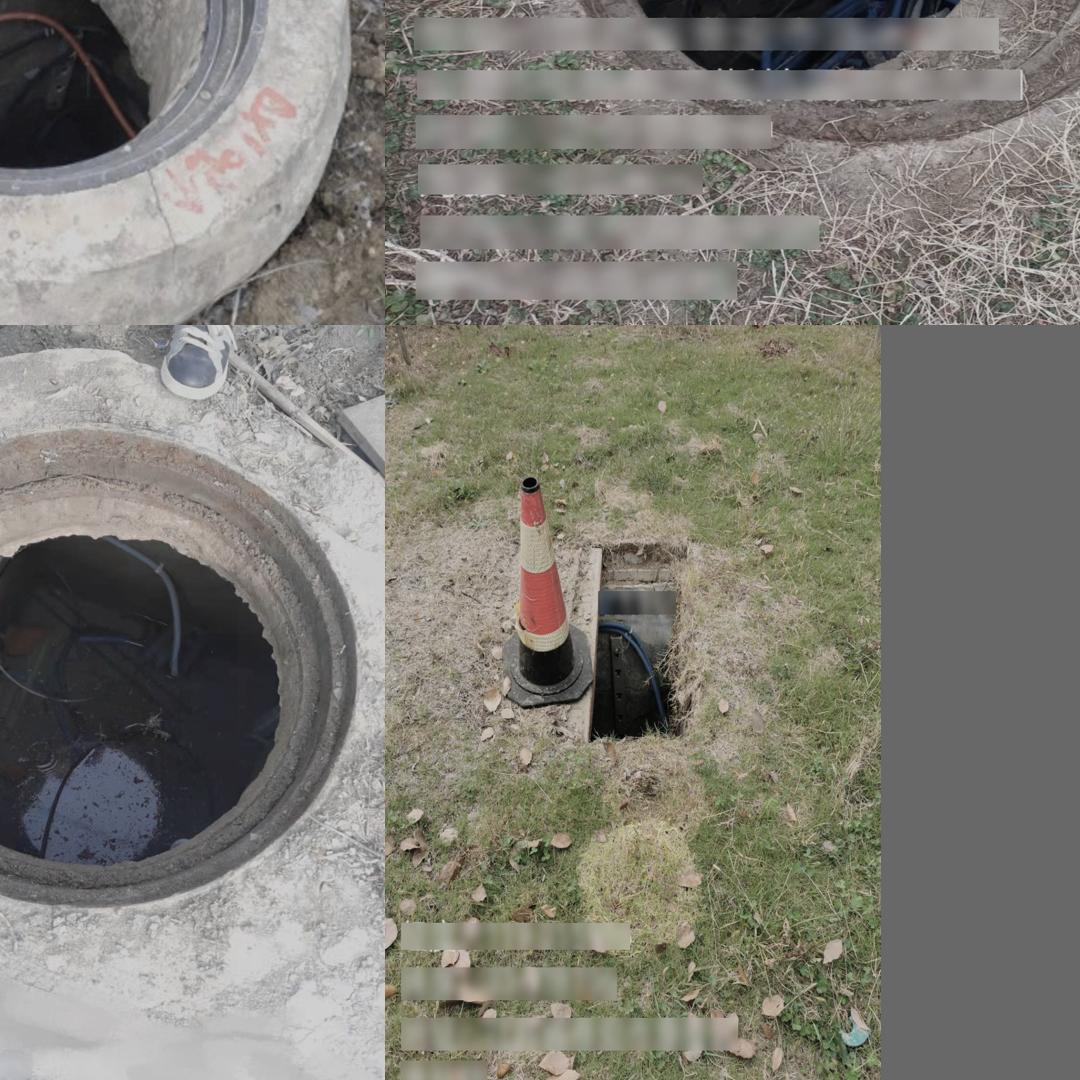lose: (0, 425, 355, 913), (528, 0, 1080, 140), (0, 0, 268, 197), (582, 537, 687, 744)
